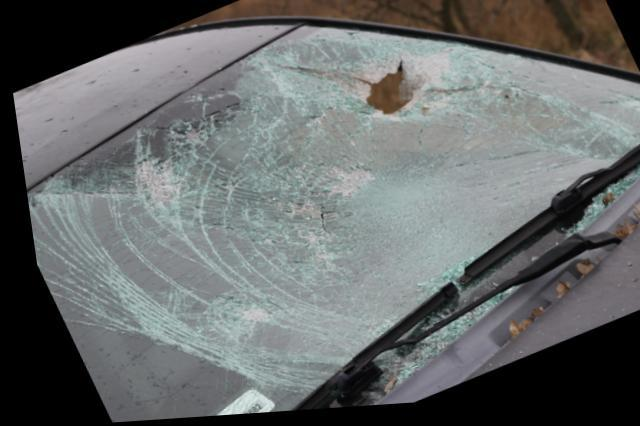glass shatter: (21, 29, 640, 423)
